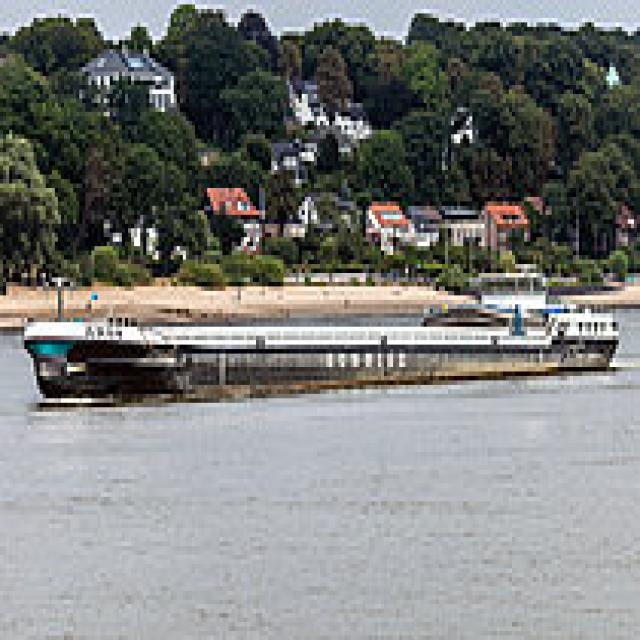Cargo: (15, 255, 619, 398)
